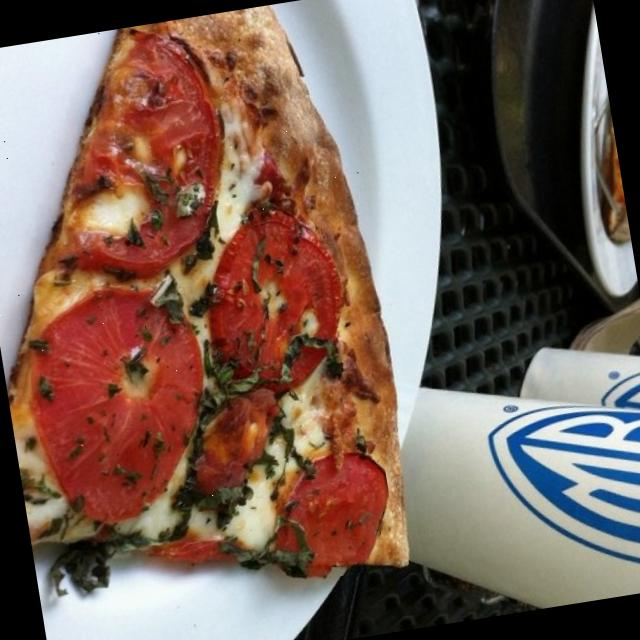pizza: (7, 4, 406, 588)
tomato: (28, 22, 248, 280), (18, 266, 230, 531), (195, 210, 366, 406), (258, 442, 400, 585)
